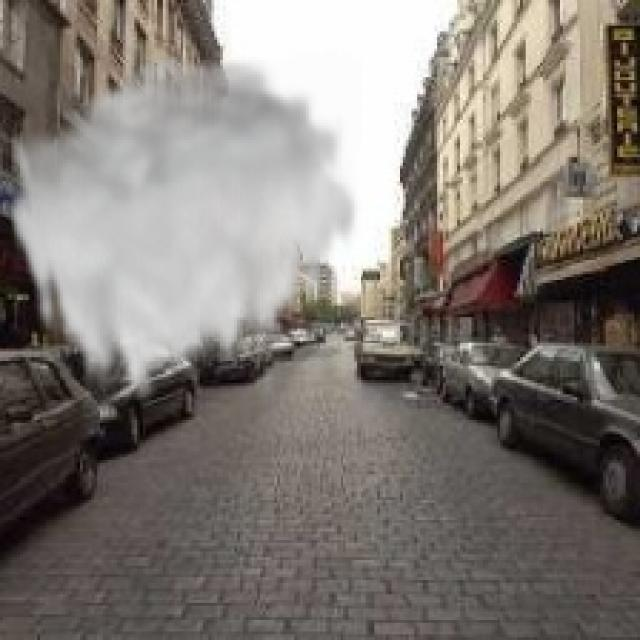smoke: (6, 46, 363, 414)
